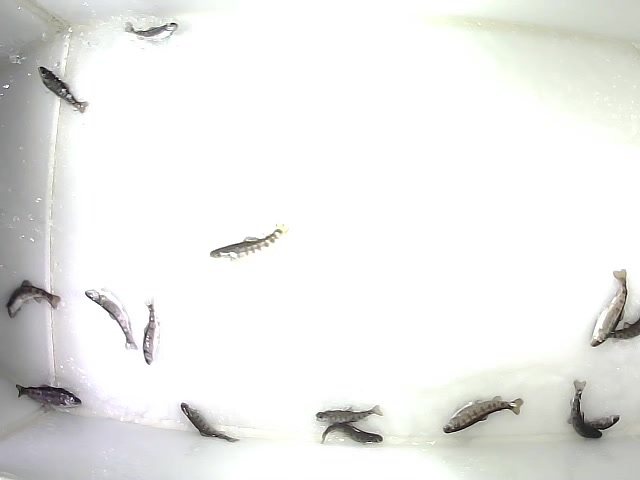fish: (84, 287, 139, 352), (588, 267, 629, 349), (208, 222, 290, 262), (442, 395, 526, 434), (180, 400, 242, 445), (37, 65, 90, 114), (4, 278, 62, 321), (564, 379, 604, 441), (15, 382, 83, 414), (319, 421, 384, 449), (313, 403, 384, 424), (142, 294, 162, 367), (122, 20, 180, 43), (566, 413, 620, 430)
